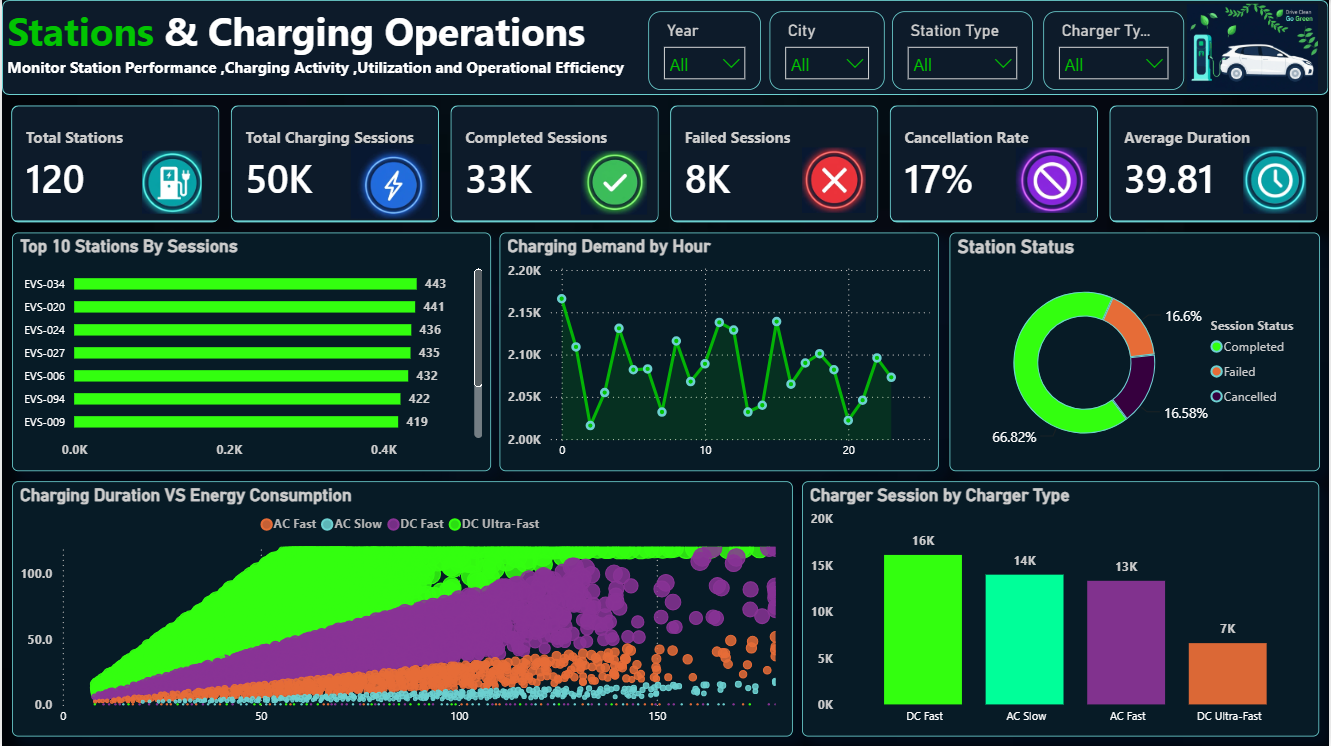

The page's visual inventory and layout, read from the dashboard file:
{"tool":"powerbi","page":{"name":"STATIONS AND CHARGING OPERATIONS","canvas":[1280,720],"ordinal":1},"visuals":[{"type":"shape","box":[0,0,1280.2,91.8],"z":0},{"type":"textbox","box":[0,48.9,607.9,44.1],"z":1000},{"type":"textbox","box":[0,0,585.2,71.5],"z":2000},{"type":"slicer","fields":{"Values":["EV Sessions.Year"]},"box":[623.4,10.7,108.5,76.3],"z":3000},{"type":"slicer","fields":{"Values":["EV Sessions.City"]},"box":[740.2,10.7,110.9,76.3],"z":4000},{"type":"slicer","fields":{"Values":["EV Sessions.Station Type"]},"box":[859.5,10.7,135.9,76.3],"z":5000},{"type":"slicer","fields":{"Values":["EV Sessions.Charger Type"]},"box":[1004.9,10.7,135.9,76.3],"z":6000},{"type":"cardVisual","fields":{"Data":["EV Sessions.Total Stations","EV Sessions.Total Charging Sessions","EV Sessions.Completed Sessions","EV Sessions.Failed Sessions","EV Sessions.Cancellation Rate","EV Sessions.Average Duration"]},"box":[0,93,1280,131.8],"z":7000},{"type":"clusteredBarChart","title":"Top 10 Stations By Sessions","fields":{"Category":["EV Sessions.Station ID"],"Y":["EV Sessions.Total Charging Sessions"]},"box":[10.2,224.5,462.1,230.3],"z":8000},{"type":"areaChart","title":" Charging Demand by Hour","fields":{"Category":["EV Sessions.Hour"],"Y":["EV Sessions.Total Charging Sessions"]},"box":[480.5,224.2,423.8,230.4],"z":9000},{"type":"donutChart","title":"Station Status","fields":{"Category":["EV Sessions.Session Status"],"Y":["EV Sessions.Total Charging Sessions"]},"box":[914.1,224.2,357.3,230.4],"z":10000},{"type":"scatterChart","title":"Charging Duration VS Energy Consumption","fields":{"Category":["EV Sessions.Session ID"],"Series":["EV Sessions.Charger Type"],"Size":["EV Sessions.Total Revenue"],"X":["Avg(EV Sessions.Duration (Min))"],"Y":["Avg(EV Sessions.Energy Consumed (kWh))"]},"box":[9.9,464.4,754,246.4],"z":11000},{"type":"clusteredColumnChart","title":"Charger Session by Charger Type","fields":{"Category":["EV Sessions.Charger Type"],"Y":["EV Sessions.Total Charging Sessions"]},"box":[772.4,464.4,498.9,246.4],"z":12000},{"type":"image","box":[1134.4,3.3,145.6,84.4],"z":13000},{"type":"image","box":[134.7,127.5,57.2,96.6],"z":14000},{"type":"image","box":[336.2,125.2,78.7,98.9],"z":15000},{"type":"image","box":[559.1,127.5,64.4,96.6],"z":16000},{"type":"image","box":[772.4,125.2,62,96.6],"z":17000},{"type":"image","box":[978.7,125.2,69.1,96.6],"z":18000},{"type":"image","box":[1198,125.2,60.8,96.6],"z":19000}]}

Visuals, with their boxes in screenshot pixels (x1, y1, x2, y2), scaled from the page's 1280x720 canvas onto the 1331x746 screenshot:
shape: <region>0, 0, 1330, 95</region>
textbox: <region>0, 51, 632, 96</region>
textbox: <region>0, 0, 609, 74</region>
slicer - EV Sessions.Year: <region>648, 11, 761, 90</region>
slicer - EV Sessions.City: <region>770, 11, 885, 90</region>
slicer - EV Sessions.Station Type: <region>894, 11, 1035, 90</region>
slicer - EV Sessions.Charger Type: <region>1045, 11, 1186, 90</region>
cardVisual - EV Sessions.Total Stations x EV Sessions.Total Charging Sessions: <region>0, 96, 1330, 233</region>
"Top 10 Stations By Sessions" clusteredBarChart: <region>11, 233, 491, 471</region>
" Charging Demand by Hour" areaChart: <region>500, 232, 940, 471</region>
"Station Status" donutChart: <region>951, 232, 1322, 471</region>
"Charging Duration VS Energy Consumption" scatterChart: <region>10, 481, 794, 736</region>
"Charger Session by Charger Type" clusteredColumnChart: <region>803, 481, 1322, 736</region>
image: <region>1180, 3, 1330, 91</region>
image: <region>140, 132, 200, 232</region>
image: <region>350, 130, 431, 232</region>
image: <region>581, 132, 648, 232</region>
image: <region>803, 130, 868, 230</region>
image: <region>1018, 130, 1090, 230</region>
image: <region>1246, 130, 1309, 230</region>
